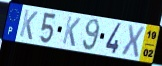4: (104, 23, 121, 55)
5: (38, 11, 59, 44)
9: (81, 18, 102, 52)
K: (18, 8, 39, 42), (61, 15, 82, 49)
X: (120, 23, 146, 59)
